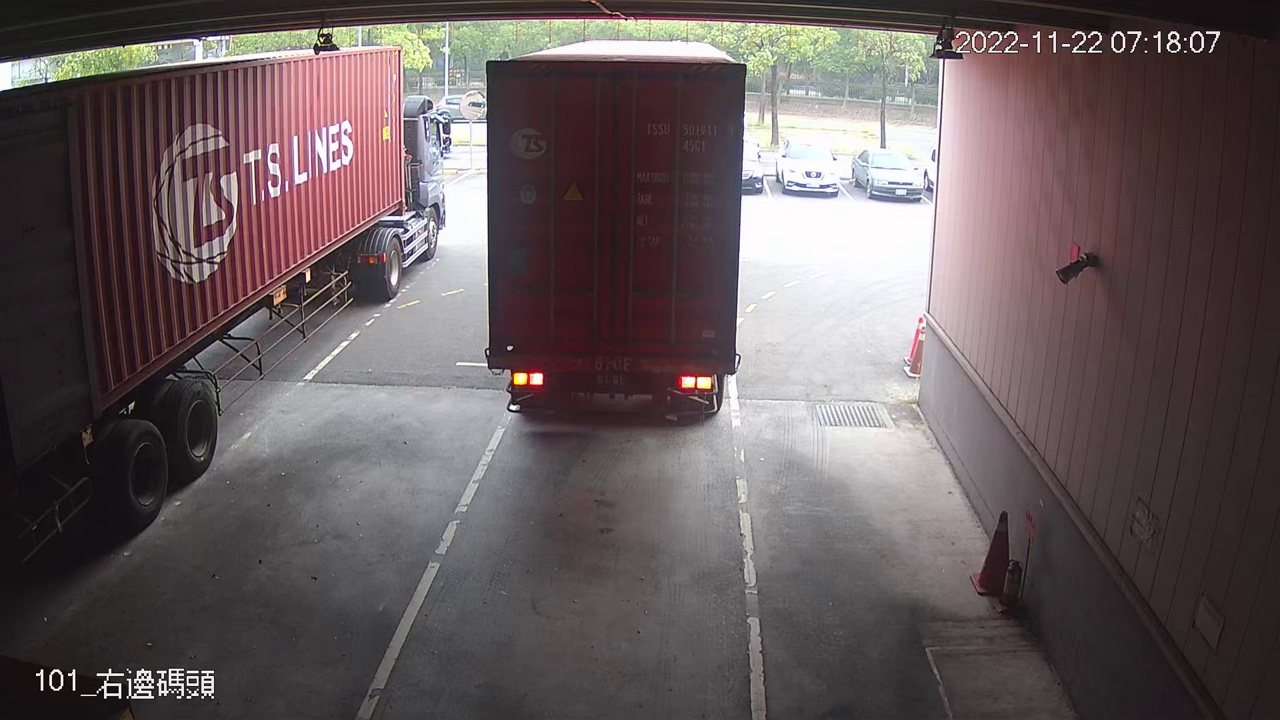container: (639, 117, 740, 160)
